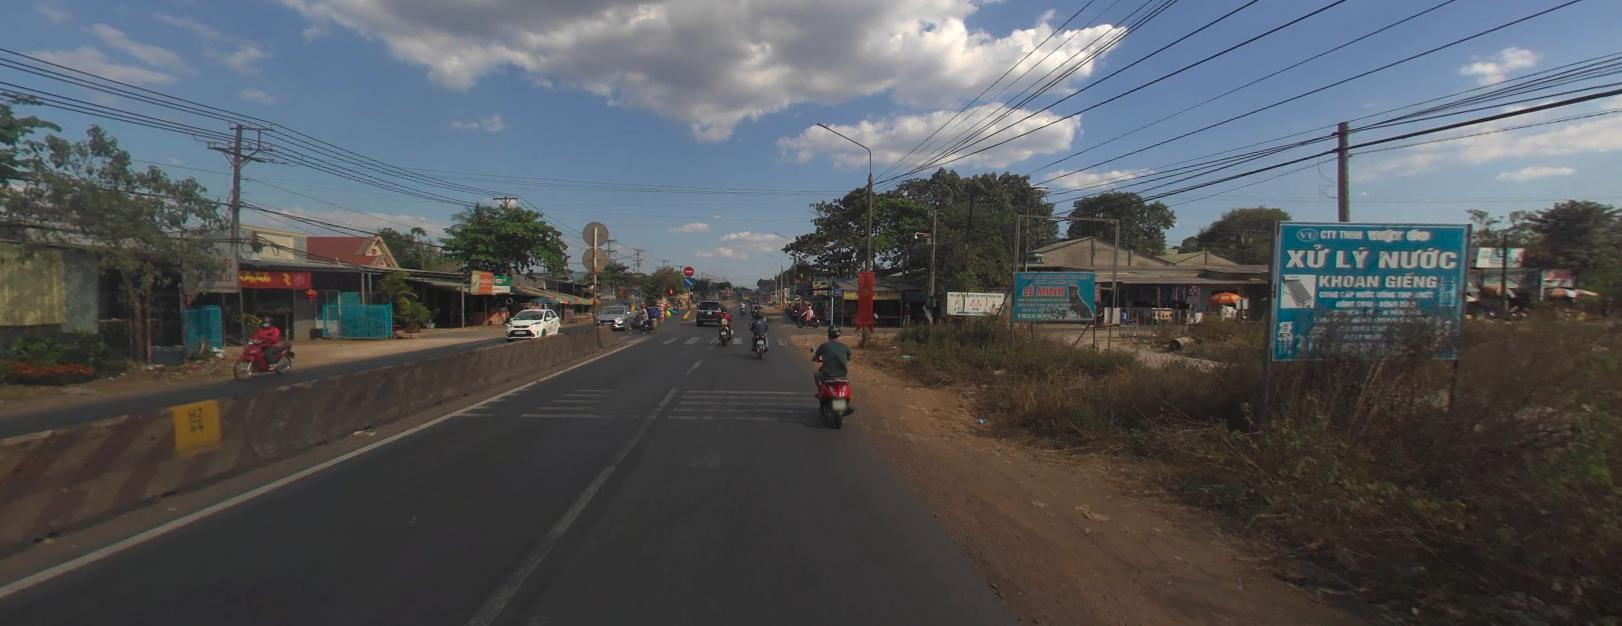Cam nguoc chieu: (683, 264, 693, 273)
Hieu lenh: (683, 276, 693, 285)
